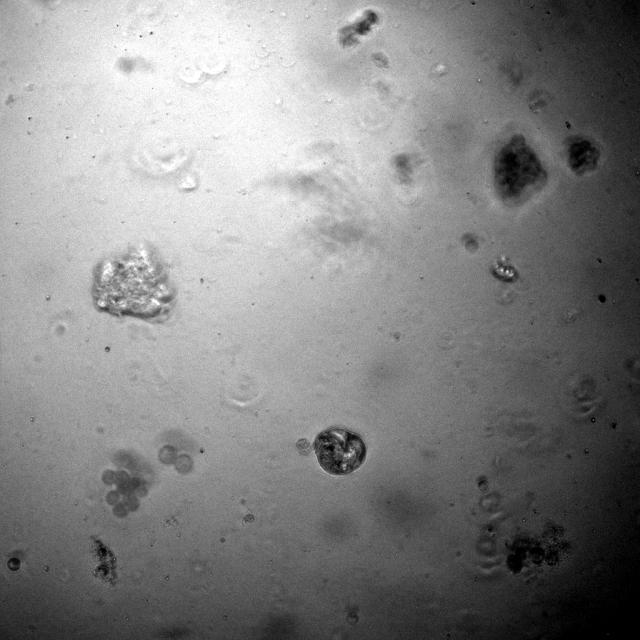organoid: (92, 242, 175, 321), (101, 449, 155, 517), (296, 425, 366, 476), (504, 522, 571, 575), (494, 135, 546, 200), (338, 8, 381, 48), (566, 135, 600, 175), (92, 537, 116, 584), (158, 445, 192, 473), (492, 256, 518, 282), (461, 232, 481, 252), (344, 605, 359, 626), (6, 556, 21, 572), (477, 475, 488, 491), (242, 514, 255, 525), (598, 294, 606, 304), (487, 525, 493, 533), (611, 421, 617, 429), (219, 537, 226, 543), (583, 448, 589, 453)
